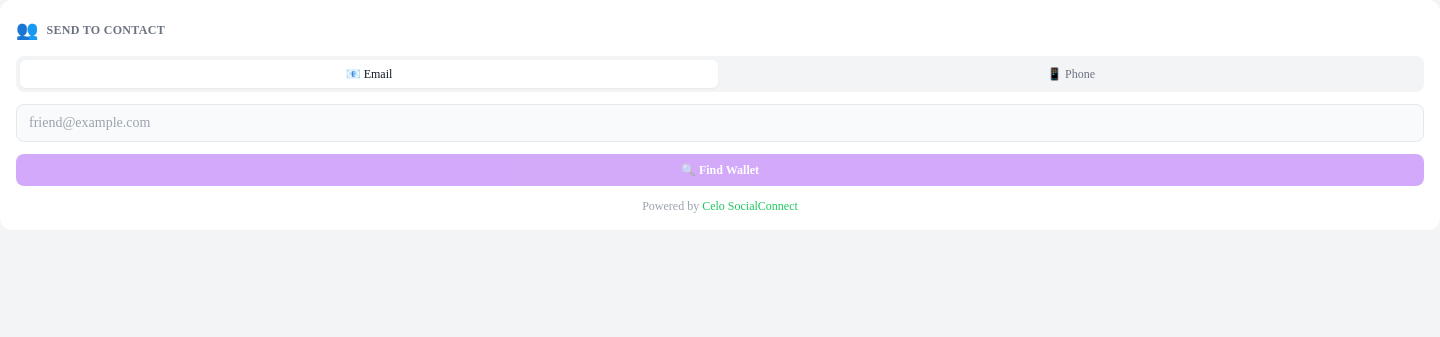
Scenario: SocialContactPicker › shows success state when address resolved
In the field with placeholder "friend@example.com": point(720, 123) left=16, top=104, right=1424, bottom=142, type "test@example.com"
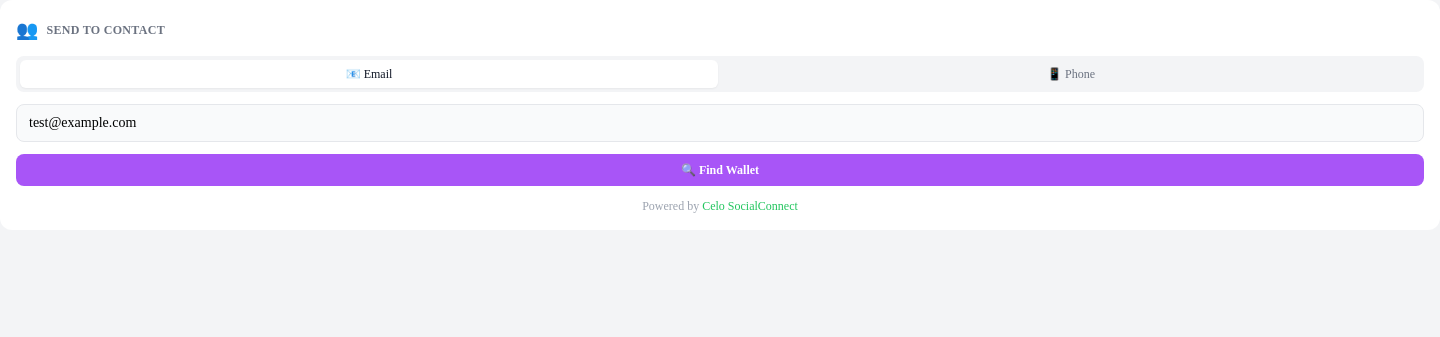
Click the button "🔍 Find Wallet": point(720, 170) left=16, top=154, right=1424, bottom=186
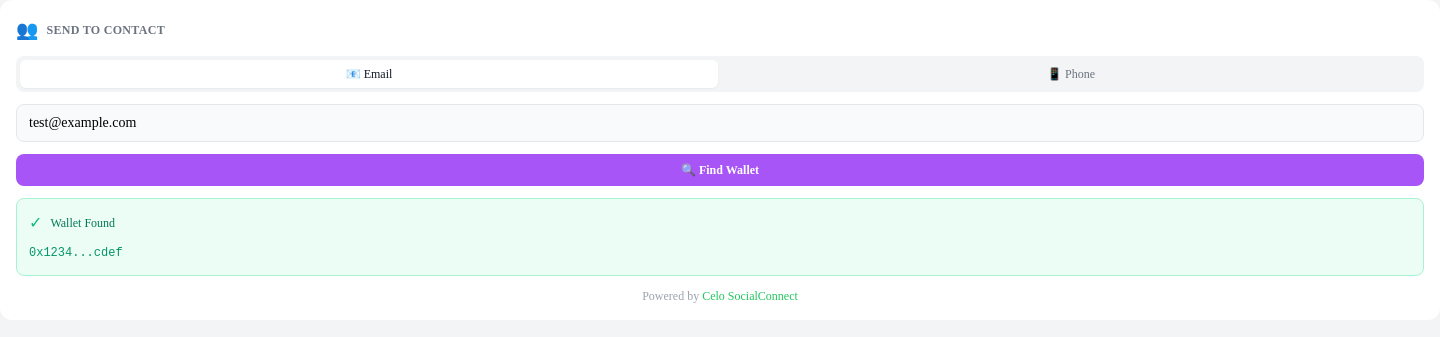
Result: the text "Wallet Found" is shown at left=50, top=215, right=115, bottom=231
Result: the text "0x1234...cdef" is shown at left=29, top=246, right=123, bottom=260
